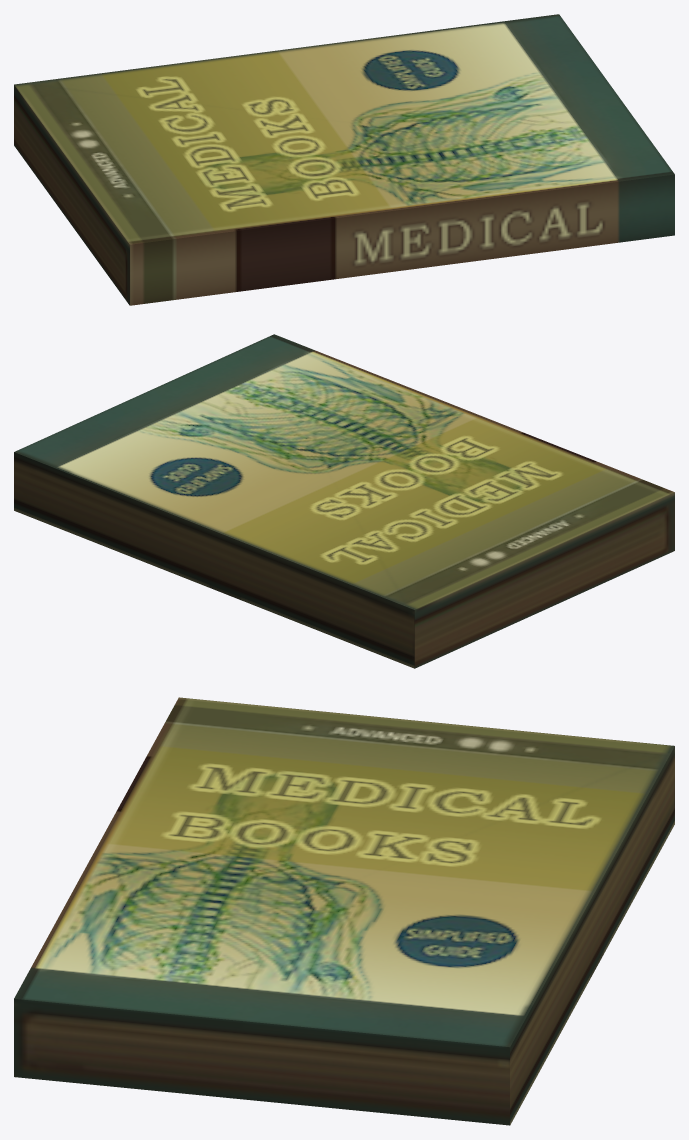
Rendered from HuShiZhan_01_lvshu_01.FBX.
3 renders of one model, top to bottom at view 1: azimuth 30°, elevation 25°; view 2: azimuth 150°, elevation 25°; view 3: azimuth 270°, elevation 25°, orthographic. The views are drawn at different scales.
Parts seen in each view (by area): view 1: HuShiZhan_lvshu_01; view 2: HuShiZhan_lvshu_01; view 3: HuShiZhan_lvshu_01.
Part boxes in pixels (x1,y1,x2,y2): HuShiZhan_lvshu_01: (14,14,674,305); HuShiZhan_lvshu_01: (14,334,674,668); HuShiZhan_lvshu_01: (14,697,674,1125).
Size of the model in its own units: 135 by 14.12 by 108.
